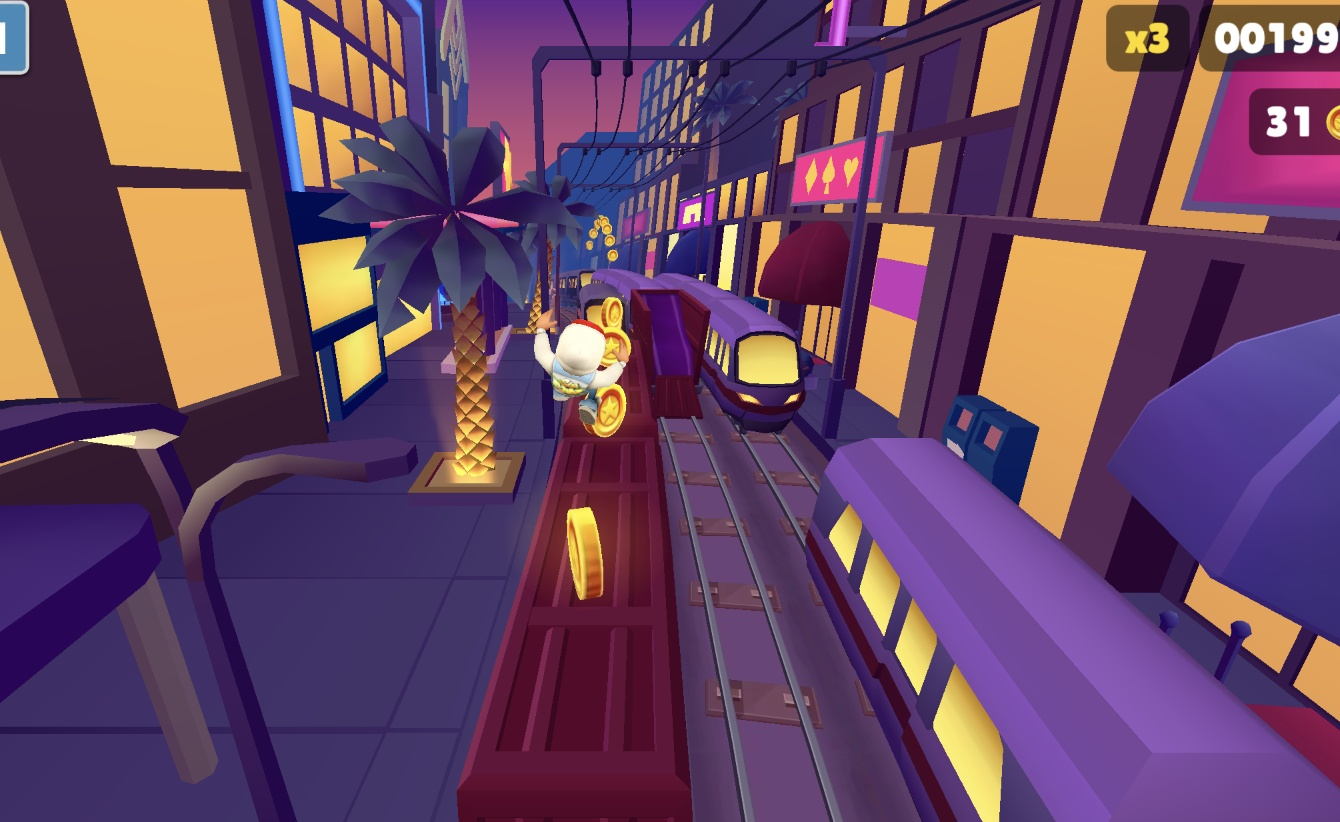train: (809, 438, 1340, 822), (456, 323, 695, 822), (583, 273, 716, 427), (697, 281, 808, 434), (557, 267, 595, 298)
